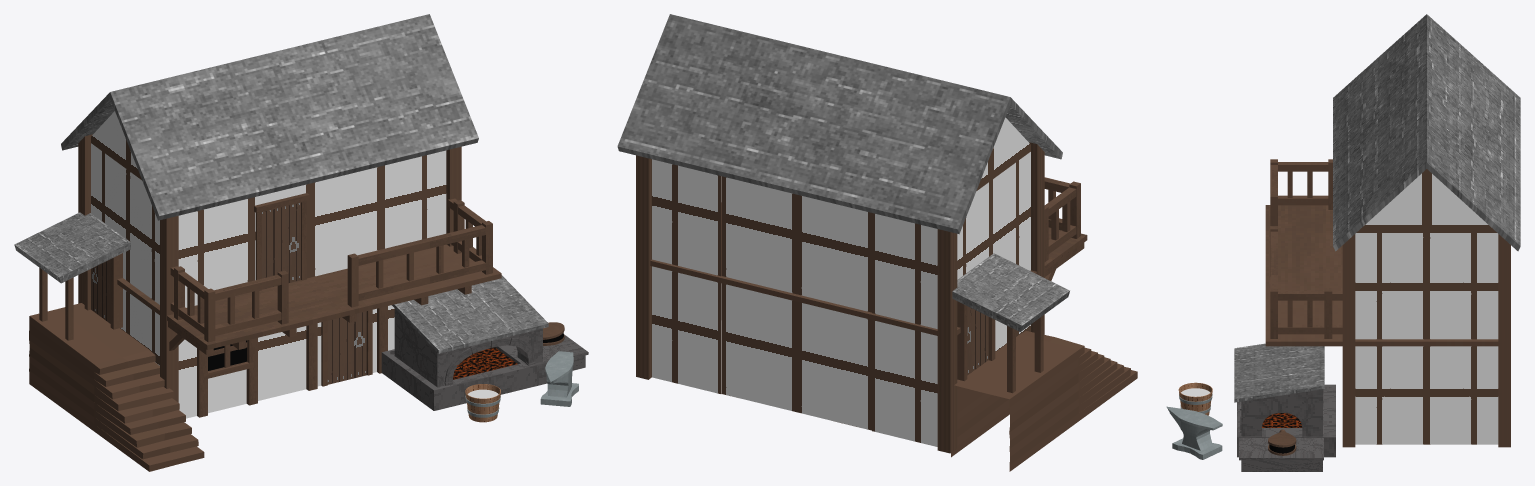
File: BlacksmithHouse.fbx
3 views of the same model, side by side, from view 1: azimuth 30°, elevation 25°; view 2: azimuth 150°, elevation 25°; view 3: azimuth 270°, elevation 25° (orthographic). The views are drawn at different scales.
Parts seen in each view (by area): view 1: Plane.003; view 2: Plane.003; view 3: Plane.003.
Part boxes in pixels (x1,y1,x2,y2): Plane.003: [14, 14, 588, 471]; Plane.003: [617, 14, 1137, 471]; Plane.003: [1166, 14, 1520, 471].
Bounding box in the file's own units: 1224 × 843 × 911.
